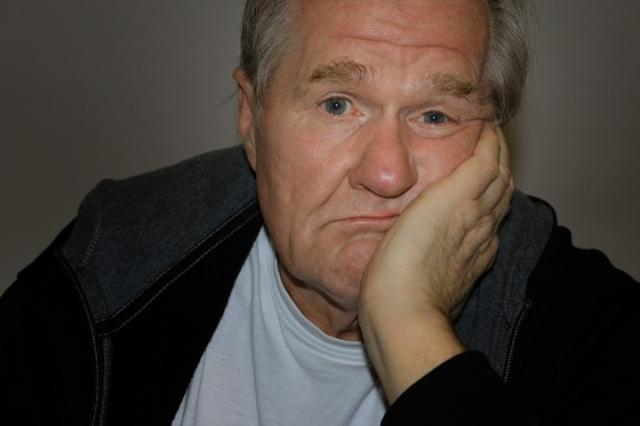forehead: (339, 28, 396, 50), (409, 35, 456, 59)
gummy_smile: (318, 165, 348, 205)
masseter: (282, 226, 298, 258)
